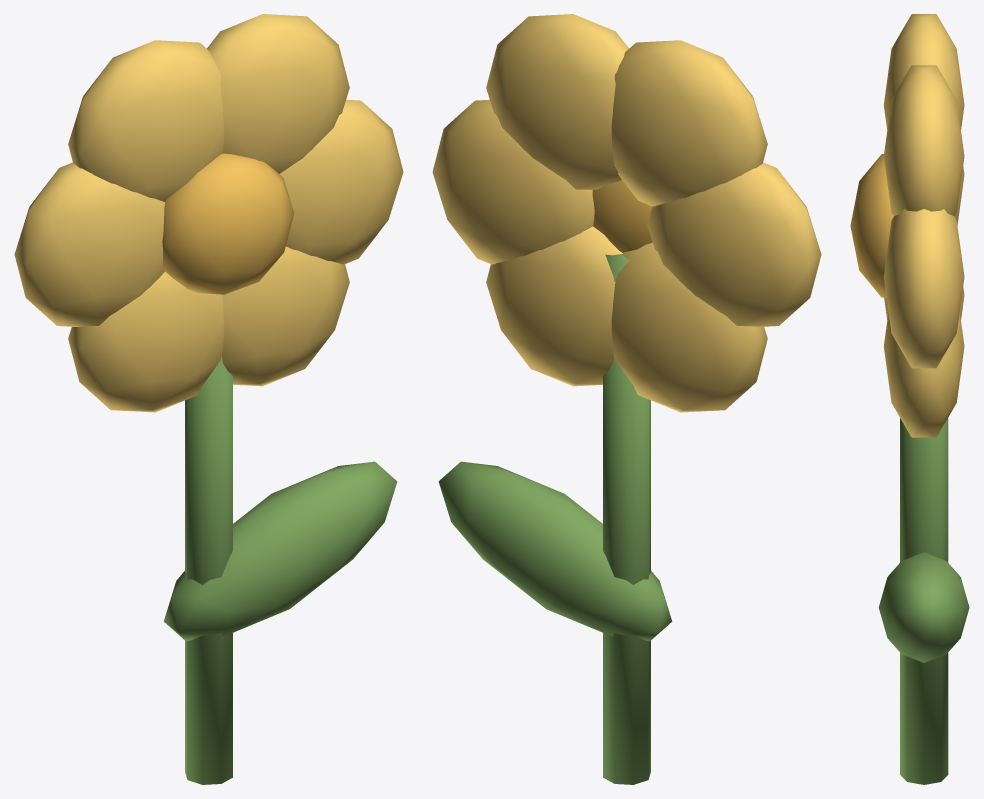
The model's file is garden-flower-gold.glb.
The picture shows the model from 3 angles, left to right: view 1: azimuth 30°, elevation 25°; view 2: azimuth 150°, elevation 25°; view 3: azimuth 270°, elevation 25°; orthographic projection. The views are drawn at different scales.
Parts seen in each view (by area): view 1: garden-flower-gold_Petal gold, garden-flower-gold_leaf, Golden pollen; view 2: garden-flower-gold_Petal gold, garden-flower-gold_leaf, Golden pollen; view 3: garden-flower-gold_Petal gold, garden-flower-gold_leaf, Golden pollen.
Part boxes in pixels (bbox=[...]): garden-flower-gold_Petal gold: bbox=[14, 14, 403, 412]; garden-flower-gold_leaf: bbox=[163, 357, 397, 784]; Golden pollen: bbox=[162, 153, 294, 294]; garden-flower-gold_Petal gold: bbox=[432, 14, 821, 412]; garden-flower-gold_leaf: bbox=[438, 254, 672, 784]; Golden pollen: bbox=[592, 180, 652, 252]; garden-flower-gold_Petal gold: bbox=[883, 14, 964, 437]; garden-flower-gold_leaf: bbox=[878, 418, 969, 784]; Golden pollen: bbox=[850, 154, 893, 297].
Size of the model in its own units: 0.4207 by 0.7989 by 0.118.
